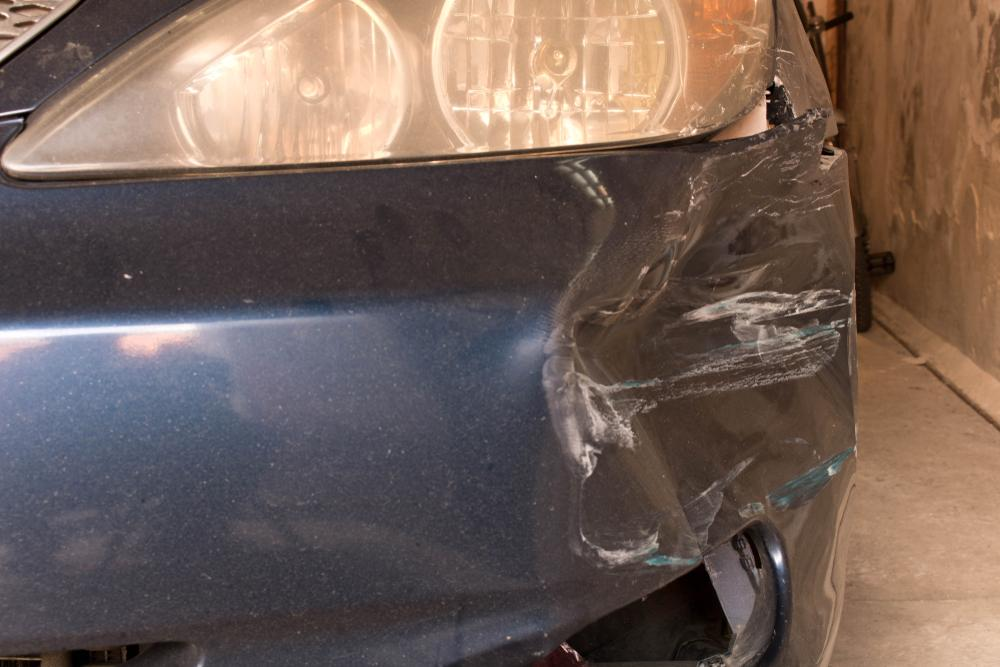dent: (560, 175, 857, 559)
